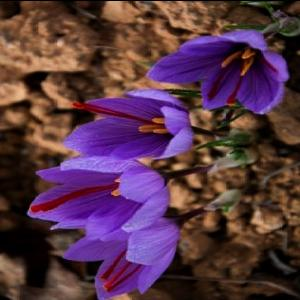Saffron: (161, 16, 292, 114), (58, 204, 192, 298), (25, 158, 180, 223), (68, 88, 187, 160)
